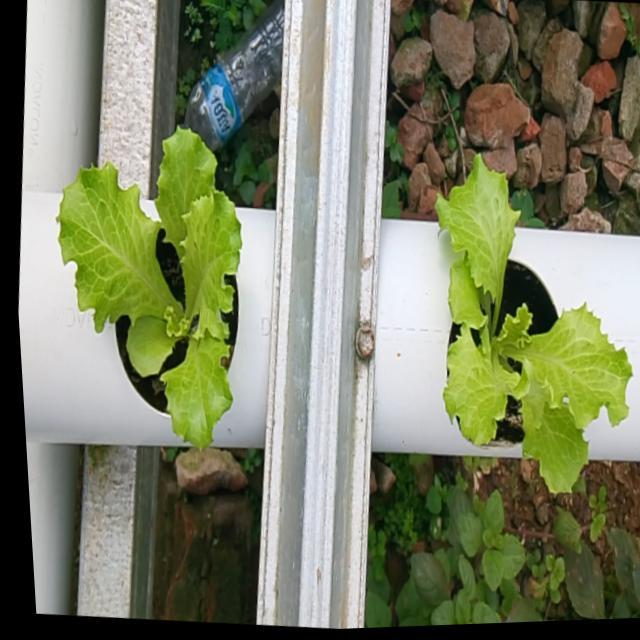Baby: (439, 161, 637, 502), (60, 132, 246, 457)
